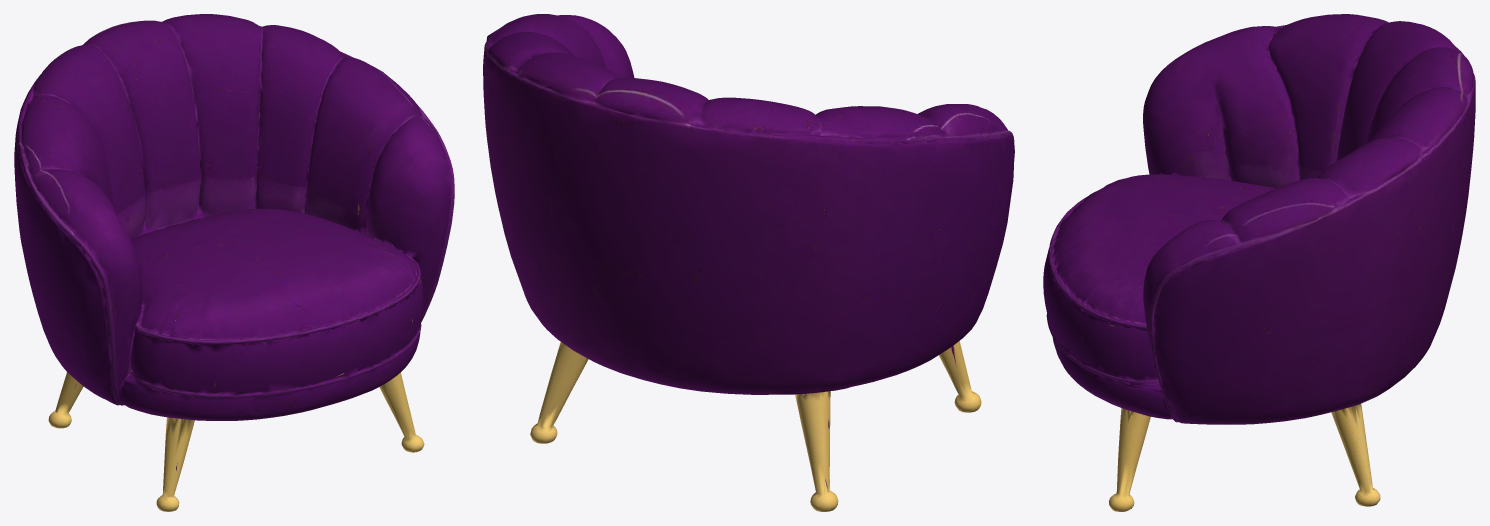
Rendered from club_chair.glb.
3 views of the same model, side by side, from view 1: azimuth 30°, elevation 25°; view 2: azimuth 150°, elevation 25°; view 3: azimuth 270°, elevation 25° (orthographic). The views are drawn at different scales.
Size of the model in its own units: 1.9 by 1.63 by 1.69.
Materials: 1 (1 with a texture image).
